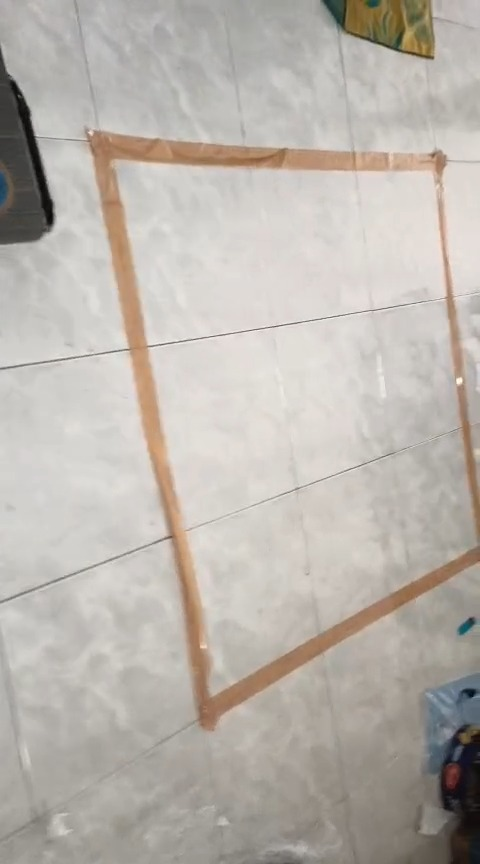floor marking: (87, 130, 479, 730)
